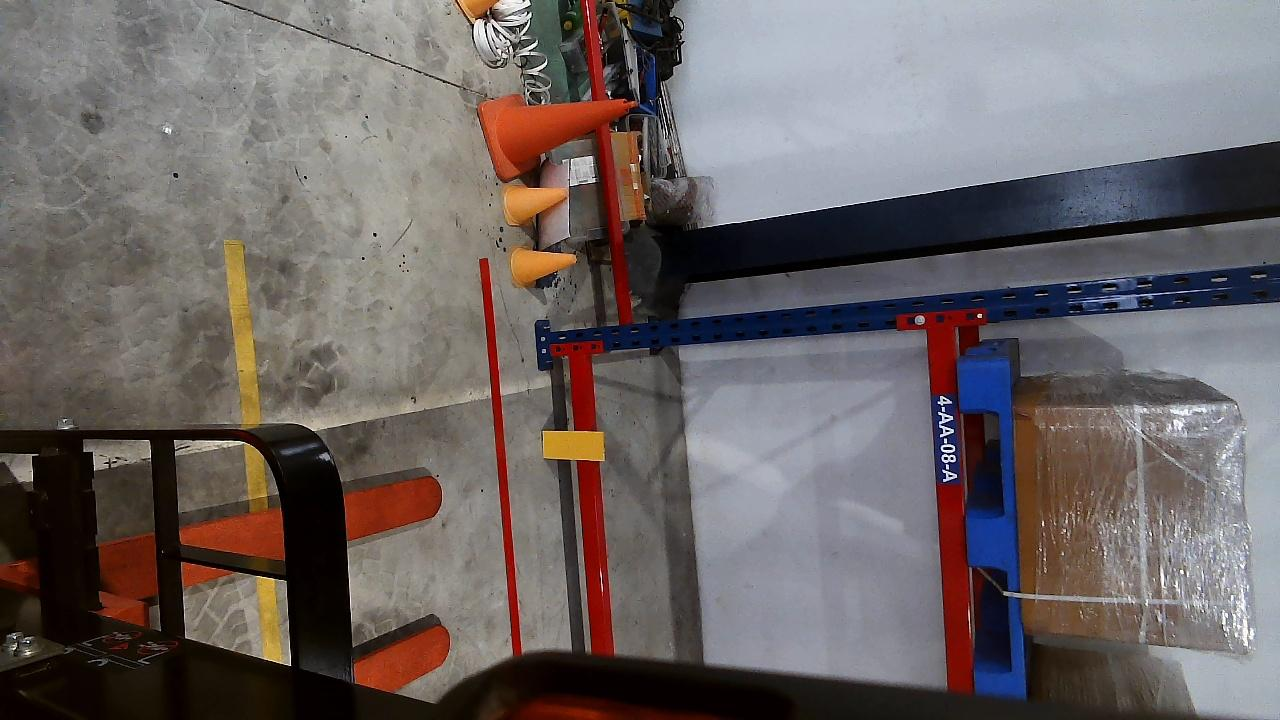h_rack: (925, 327, 974, 691), (567, 356, 614, 653)
orange_strip: (541, 429, 605, 461)
red_line: (482, 258, 522, 659)
small_pallet: (964, 356, 1018, 697)
yellow_line: (220, 239, 261, 426)
